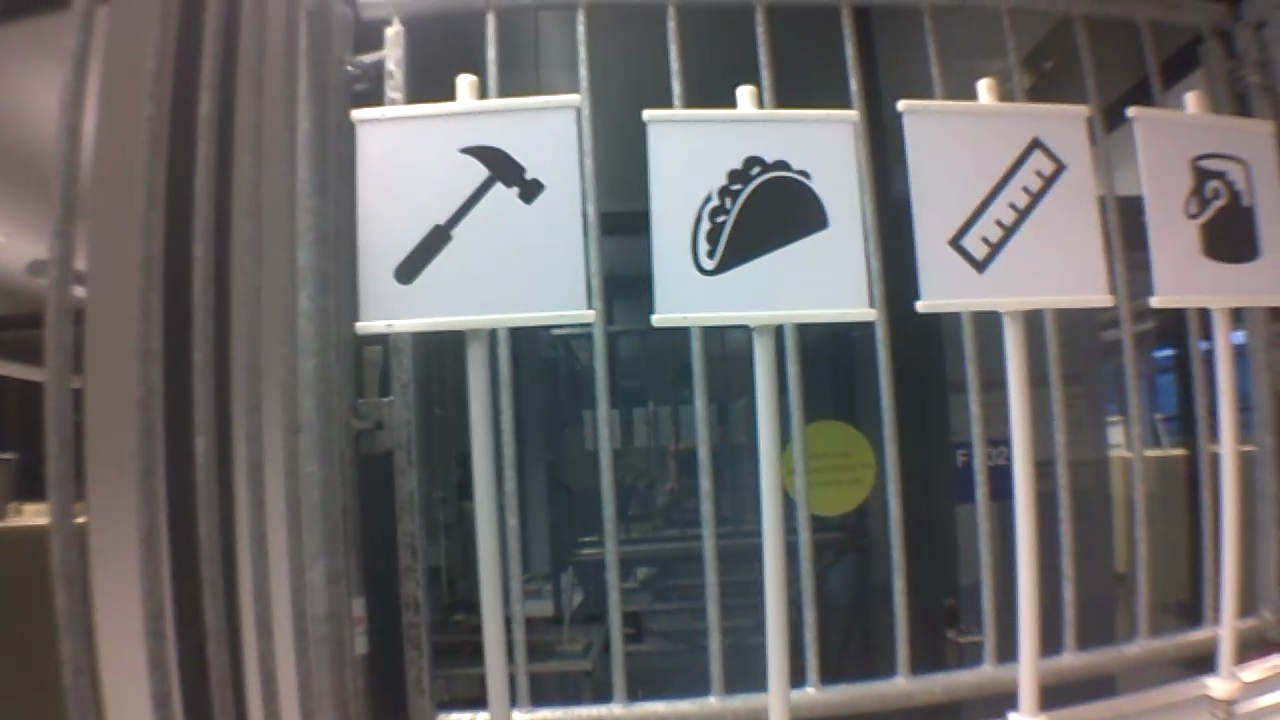bucket: (1175, 146, 1264, 270)
hammer: (389, 134, 553, 291)
ruler: (940, 132, 1071, 279)
taco: (683, 149, 834, 281)
